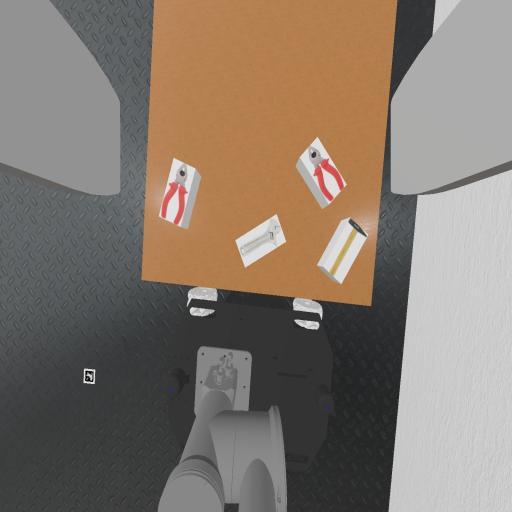hammer: (330, 220, 367, 275)
pliers: (309, 146, 344, 201), (162, 164, 187, 224)
wrench: (240, 220, 281, 256)
